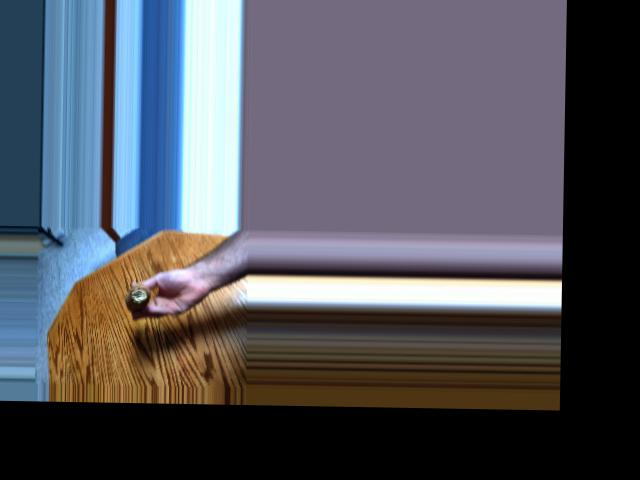sweet_potato: (121, 282, 149, 305)
